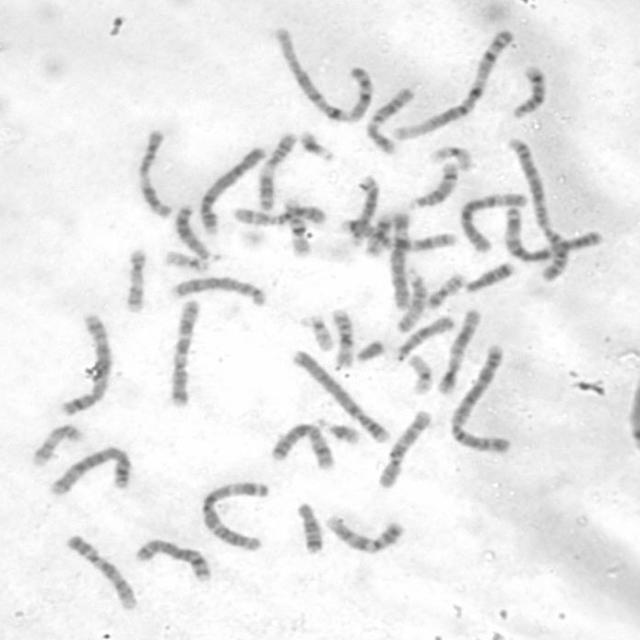A1: (390, 29, 517, 143), (272, 26, 374, 123)
A2: (504, 136, 572, 283), (447, 344, 514, 453)
A3: (502, 205, 605, 264), (199, 479, 269, 553)
B4: (290, 350, 393, 444), (198, 144, 266, 236)
B5: (60, 311, 112, 418), (48, 444, 135, 496)
C10: (376, 407, 434, 489), (229, 205, 329, 228)
C11: (257, 130, 300, 212), (138, 127, 174, 220)
C12: (437, 309, 482, 396), (363, 85, 416, 156)
C6: (458, 192, 530, 254), (389, 212, 412, 310)
C7: (341, 216, 458, 252), (168, 298, 204, 410)
C8: (135, 538, 213, 583), (167, 275, 268, 307)
C9: (64, 532, 138, 611), (326, 510, 408, 557)
D13: (173, 202, 223, 261), (349, 174, 382, 248)
D14: (409, 161, 460, 211), (511, 61, 552, 121)
D15: (394, 314, 456, 364), (397, 268, 428, 334)
E16: (282, 198, 311, 259), (329, 307, 356, 369)
E17: (30, 422, 83, 470), (124, 245, 148, 315)
E18: (293, 500, 324, 554), (466, 260, 516, 293)
F19: (427, 145, 474, 173), (407, 352, 434, 396)
F20: (427, 271, 469, 309), (362, 211, 395, 257)
G21: (314, 416, 362, 446), (298, 130, 337, 161)
G22: (297, 314, 335, 353), (163, 249, 210, 274)
X: (271, 421, 337, 471)
Y: (356, 336, 388, 362)
